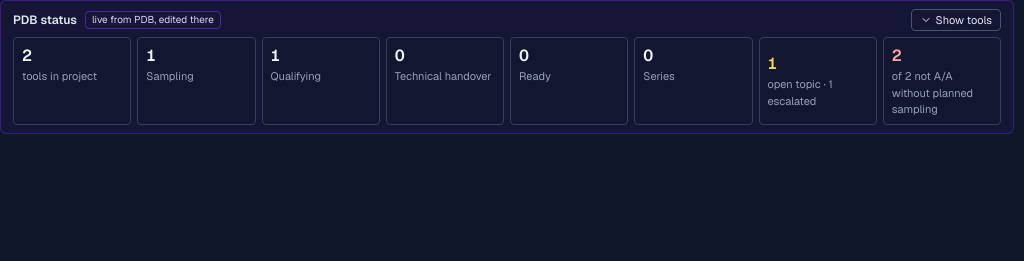
Scenario: PdbStatusBox › opens small: the numbers, no tool table, until "Show tools"
The width and height of the screenshot is (1024, 261).
Later steps or results of the test are not shown.
Check: the element with test id "pdb-step-tools" shows "2", box [22, 45, 32, 66]
Click the button with test id "pdb-box-toggle" at [956, 20], box [911, 9, 1001, 31]
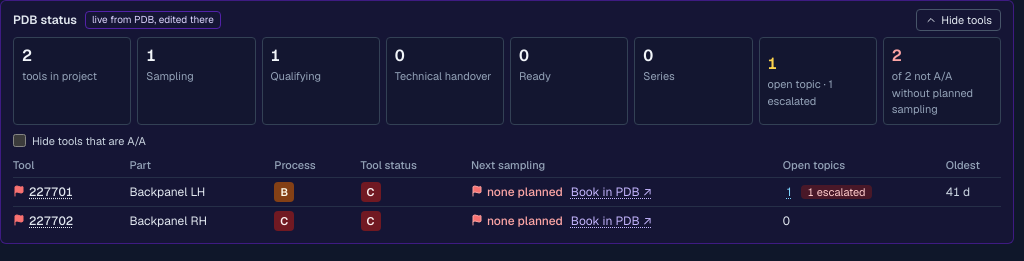
Check: the number of rows with test id "pdb-tool-row" is 2, box [13, 178, 1001, 206]; [13, 206, 1001, 235]
Check: the button with test id "pdb-box-toggle" reads "Hide tools", box [916, 9, 1001, 31]
